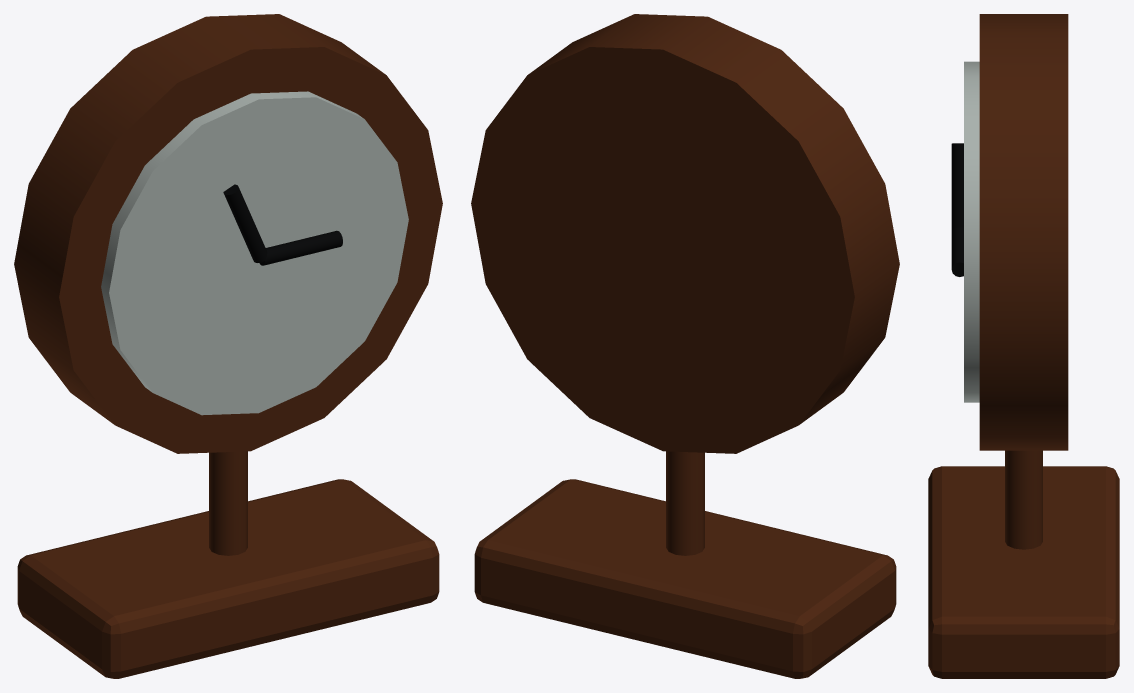
Rendered from BedroomClock.fbx.
The picture shows the model from 3 angles, left to right: view 1: azimuth 30°, elevation 25°; view 2: azimuth 150°, elevation 25°; view 3: azimuth 270°, elevation 25°; orthographic projection.
Parts seen in each view (by area): view 1: BedroomClock; view 2: BedroomClock; view 3: BedroomClock.
Part boxes in pixels (box(x1,y1,x2,y2)): BedroomClock: box(14, 14, 442, 678); BedroomClock: box(471, 14, 899, 678); BedroomClock: box(928, 14, 1119, 678).
Size of the model in its own units: 32 by 14 by 46.
